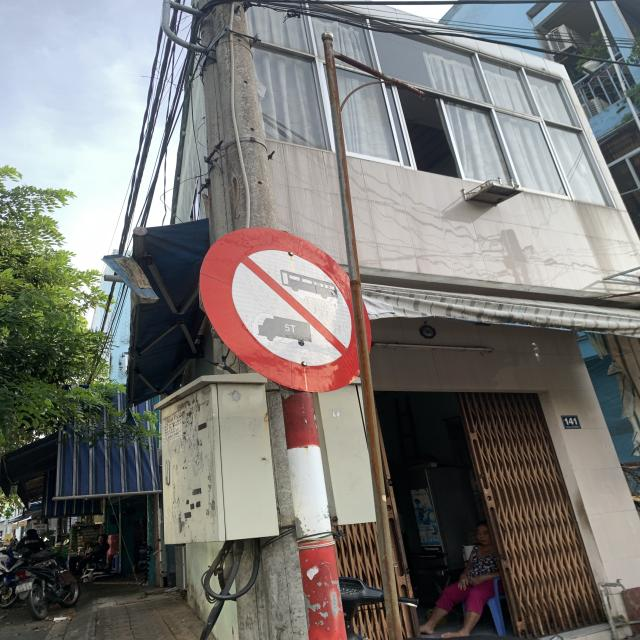Cam_XeTai_XeKhach: (194, 227, 375, 390)
